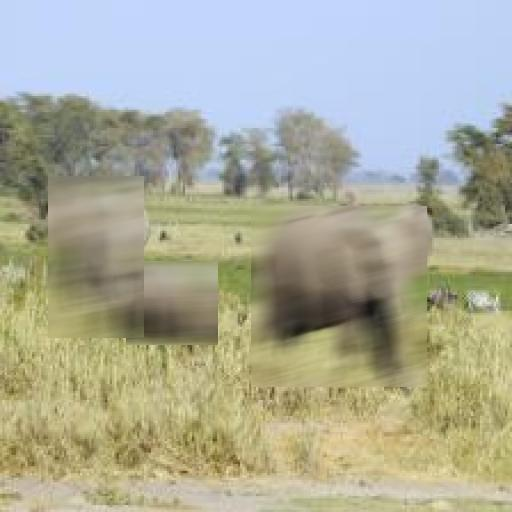Elephant: (252, 206, 428, 387), (48, 176, 144, 338), (126, 261, 218, 345)
